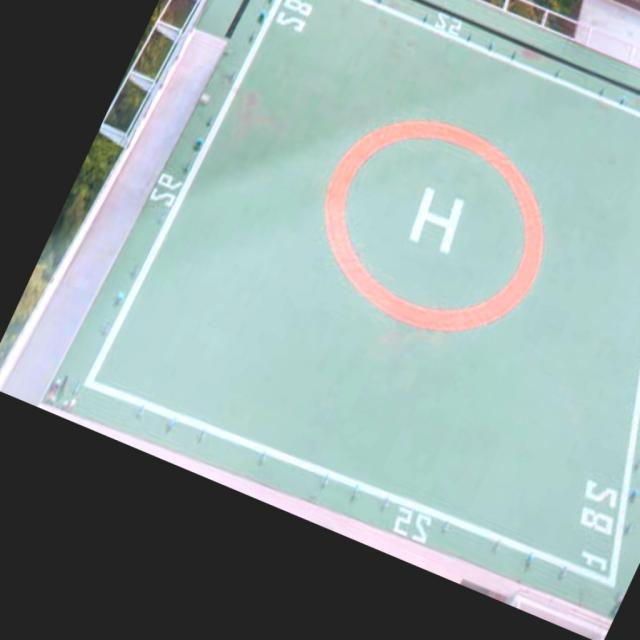helipad: (317, 114, 549, 338)
